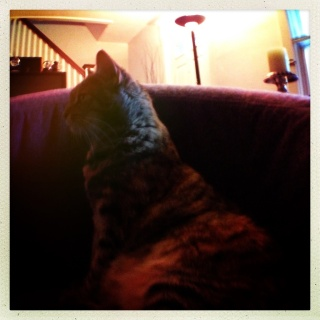Cat: (60, 47, 276, 309)
